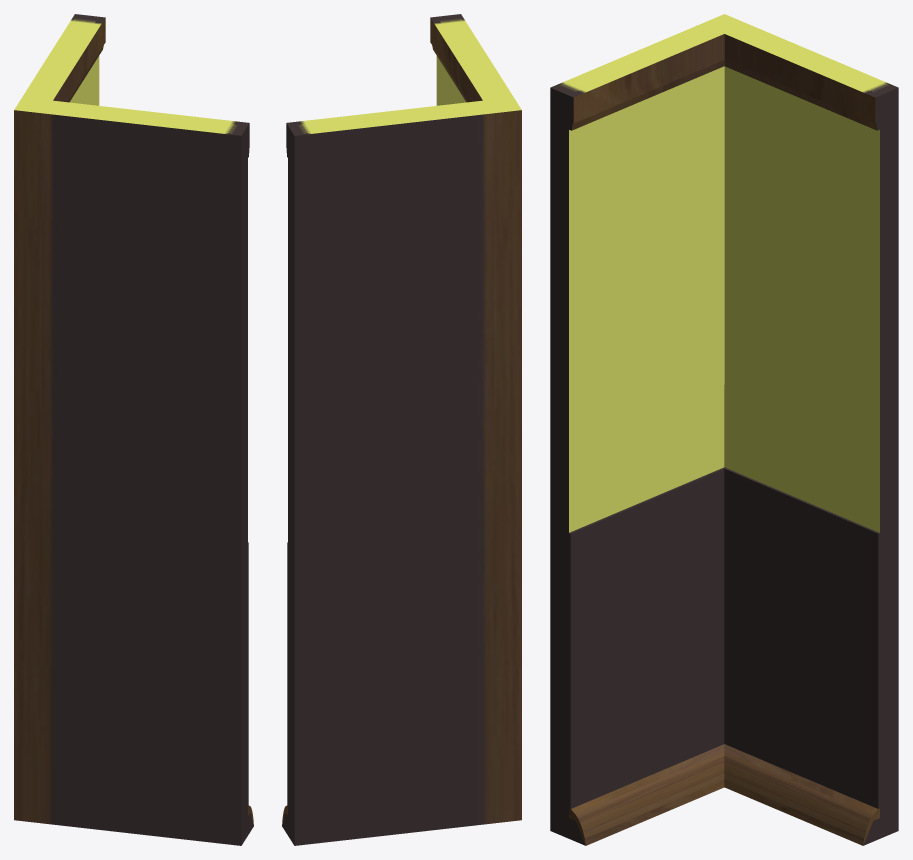
File: curvewall.fbx
3 renders of one model, left to right at view 1: azimuth 30°, elevation 25°; view 2: azimuth 150°, elevation 25°; view 3: azimuth 270°, elevation 25°, orthographic. The views are drawn at different scales.
Visible parts, largest first — view 1: wall.005; view 2: wall.005; view 3: wall.005.
Part boxes in pixels (box(x1,y1,x2,y2)): wall.005: box(14, 14, 253, 845); wall.005: box(282, 14, 521, 845); wall.005: box(550, 14, 898, 845).
Size of the model in its own units: 307 by 1197 by 509.
